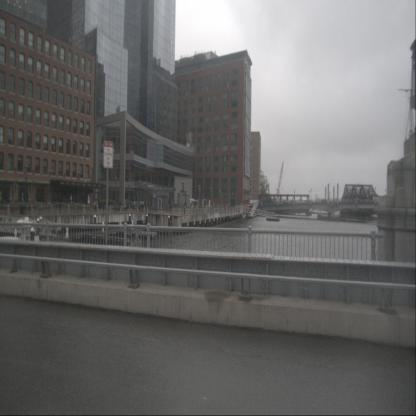human-pedestrian-adult: (94, 198, 98, 213)
